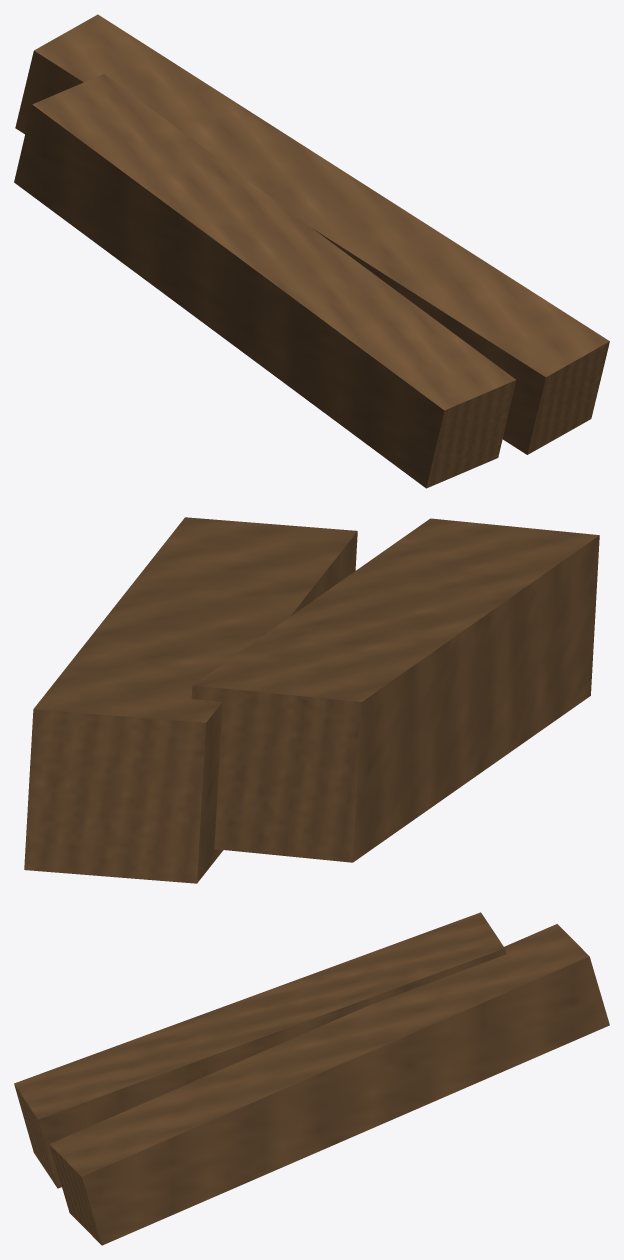
File: Deco_Racine_C.obj
3 views of the same model, one above another, from view 1: azimuth 30°, elevation 25°; view 2: azimuth 150°, elevation 25°; view 3: azimuth 270°, elevation 25° (orthographic). The views are drawn at different scales.
Visible parts, largest first — view 1: Deco_Racine_C; view 2: Deco_Racine_C; view 3: Deco_Racine_C.
Part boxes in pixels (box(x1,y1,x2,y2)): Deco_Racine_C: box(14, 14, 609, 488); Deco_Racine_C: box(24, 517, 599, 883); Deco_Racine_C: box(14, 912, 609, 1245).
Bounding box in the file's own units: 1.24 × 0.8356 × 2.18.
1 material, 1 textured.
